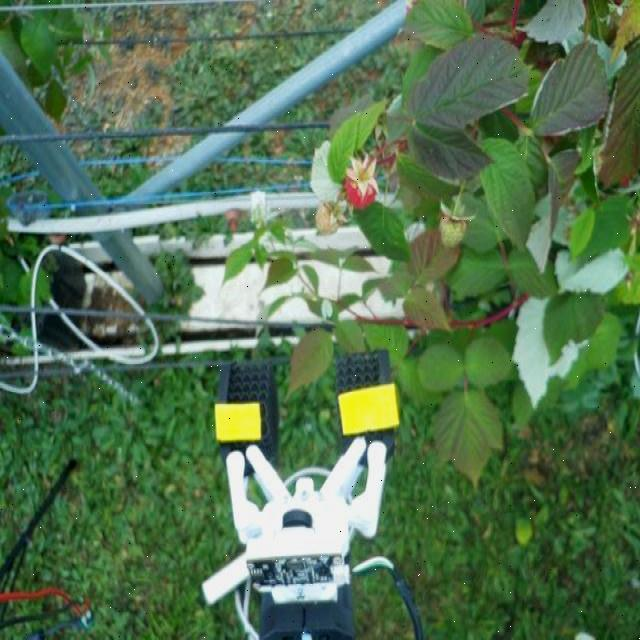Riped berries: (340, 151, 380, 212)
